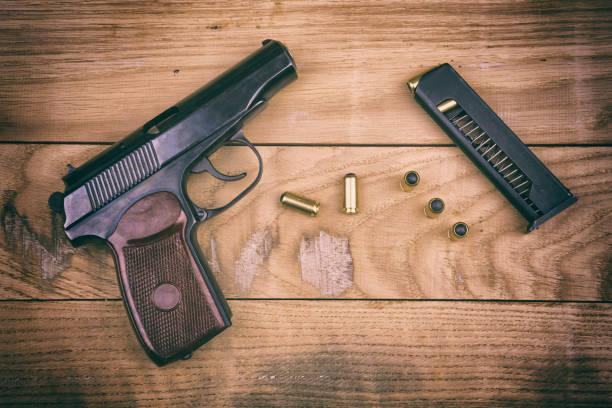weapon: (45, 30, 300, 367)
